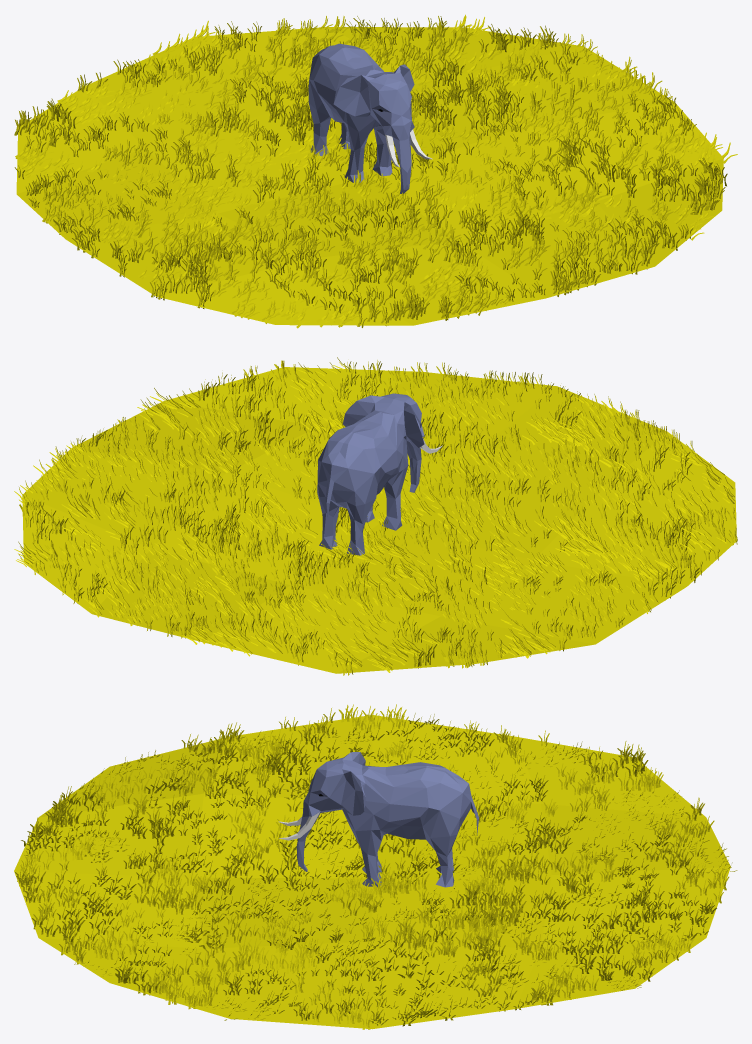
The model's file is uploads_files_5005770_elephant.fbx.
3 views of the same model, one above another, from view 1: azimuth 30°, elevation 25°; view 2: azimuth 150°, elevation 25°; view 3: azimuth 270°, elevation 25° (orthographic).
Visible parts, largest first — view 1: Plane, Elephant; view 2: Plane, Elephant; view 3: Plane, Elephant.
Part boxes in pixels (x1=…): Plane: x1=14, y1=14, x2=737, y2=328; Elephant: x1=308, y1=43, x2=432, y2=193; Plane: x1=14, y1=357, x2=737, y2=675; Elephant: x1=317, y1=393, x2=442, y2=555; Plane: x1=14, y1=704, x2=737, y2=1029; Elephant: x1=278, y1=752, x2=478, y2=887.
Bounding box in the file's own units: 1807 × 331 × 1808.
